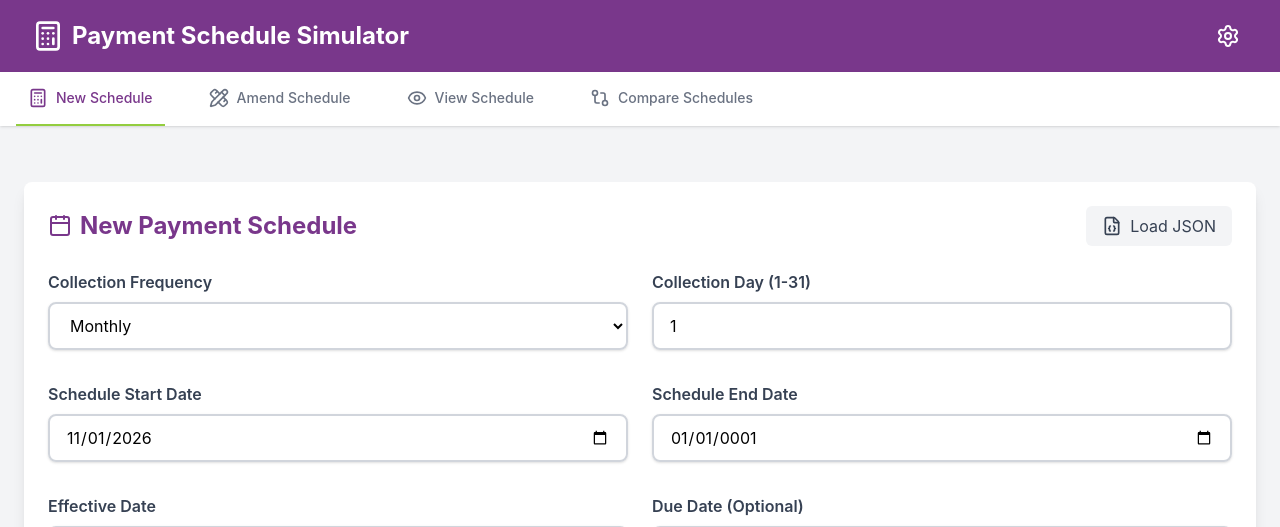
App — active tab persistence › persists the selected tab to localStorage when a nav button is clicked
The width and height of the screenshot is (1280, 527).
Click the button "View Schedule" at coordinates (470, 99), box left=394, top=72, right=546, bottom=126
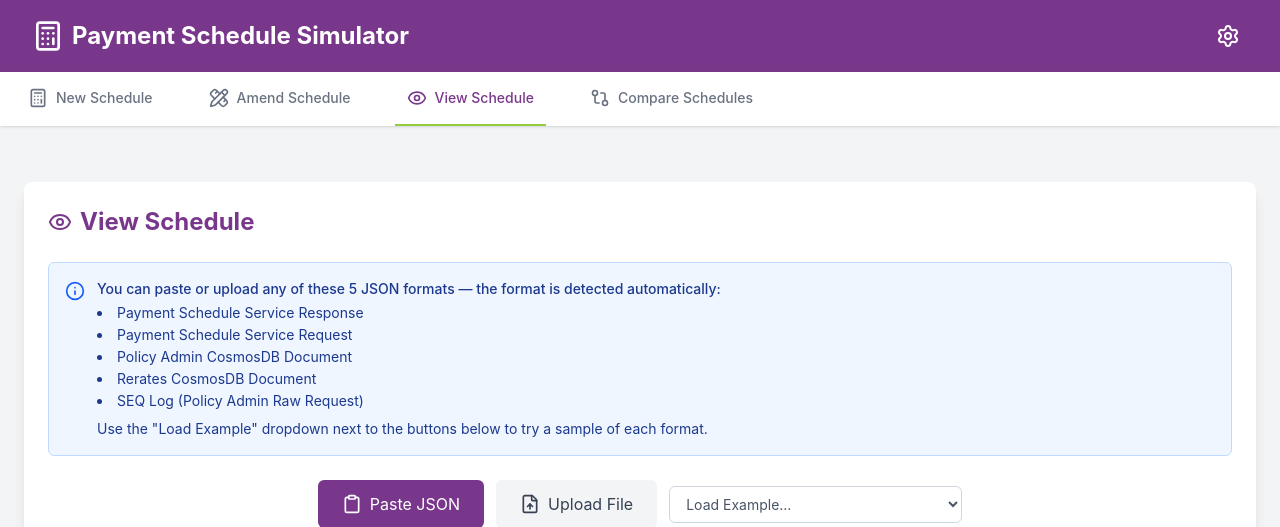
expect the heading "View Schedule" is shown: met, box left=48, top=207, right=254, bottom=236
